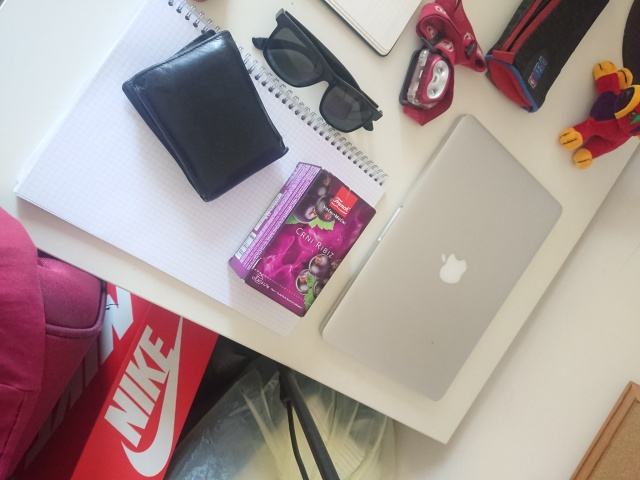Franck Black Currant Tea 60g: (226, 159, 378, 319)
